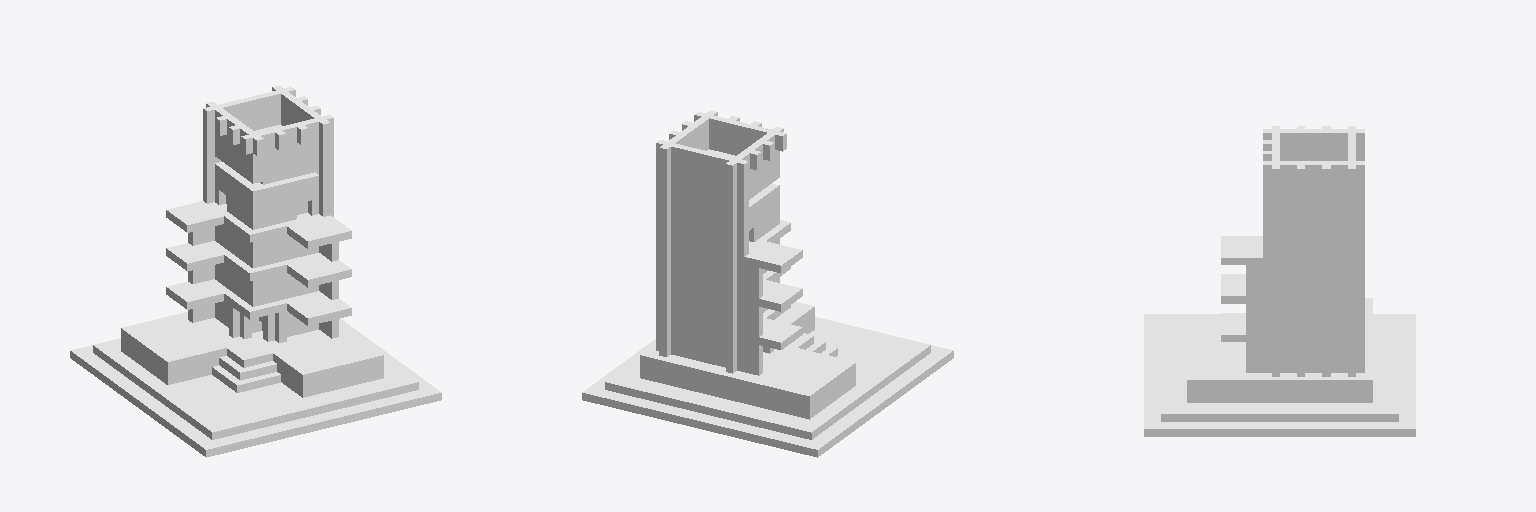
File: brut-1.obj
The picture shows the model from 3 angles: view 1: azimuth 30°, elevation 25°; view 2: azimuth 150°, elevation 25°; view 3: azimuth 270°, elevation 25°; orthographic projection.
Parts seen in each view (by area): view 1: object 1; view 2: object 1; view 3: object 1.
Boxes of the visible parts, x1=… form: object 1: x1=70, y1=86, x2=441, y2=457; object 1: x1=582, y1=110, x2=953, y2=457; object 1: x1=1144, y1=126, x2=1415, y2=436.
Size of the model in its own units: 3.2 by 3.2 by 3.2.